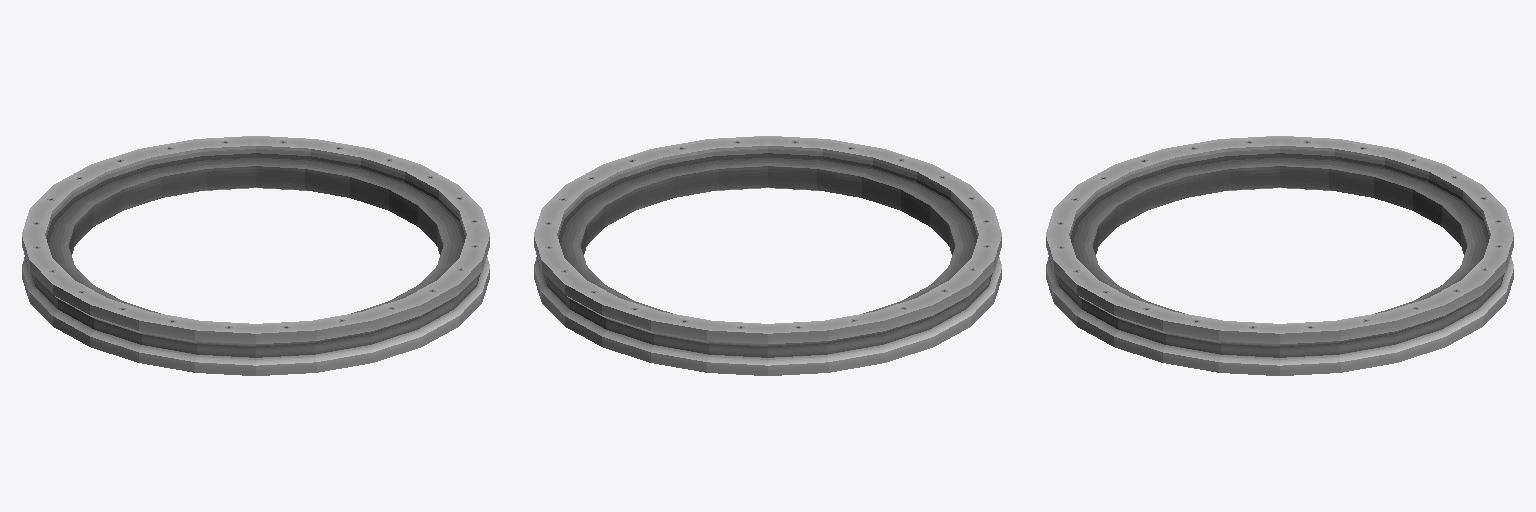
3 views of the same model, side by side, from view 1: azimuth 30°, elevation 25°; view 2: azimuth 150°, elevation 25°; view 3: azimuth 270°, elevation 25° (orthographic).
Visible parts, largest first — view 1: LLV_E_Decoupler_1; view 2: LLV_E_Decoupler_1; view 3: LLV_E_Decoupler_1.
Part boxes in pixels (x1,y1,x2,y2): LLV_E_Decoupler_1: (22,136,489,375); LLV_E_Decoupler_1: (534,136,1001,375); LLV_E_Decoupler_1: (1046,136,1513,375).
Size of the model in its own units: 1.25 by 0.125 by 1.25.
Materials: 1 (1 with a texture image).